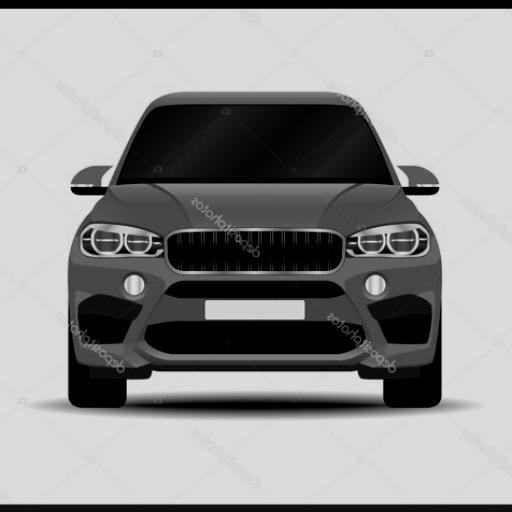suv: (70, 93, 441, 404)
